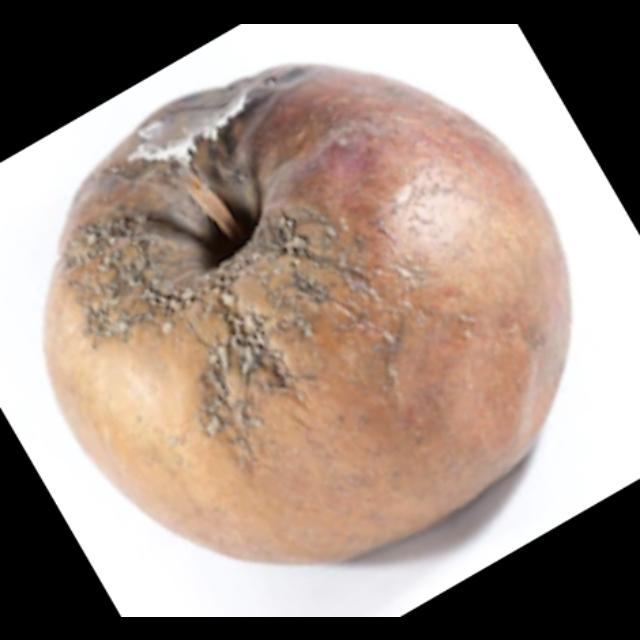Apel Tidak Segar: (38, 56, 578, 570)
